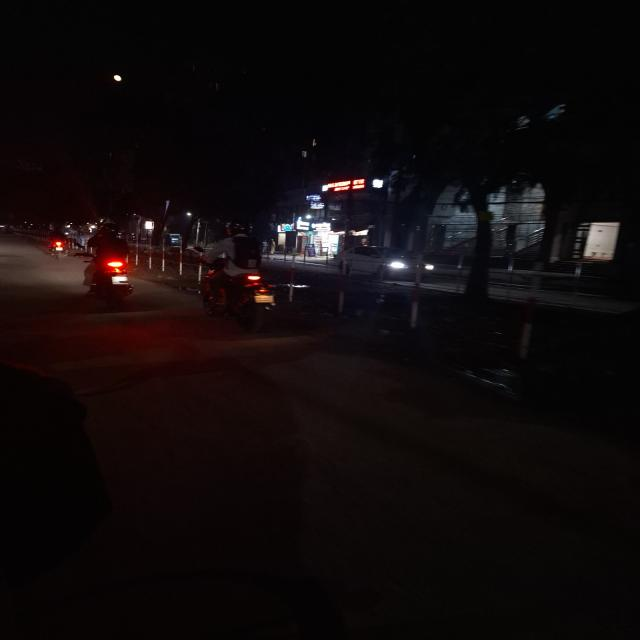car: (332, 243, 438, 276)
motorcycle: (192, 224, 288, 330), (80, 222, 143, 302), (41, 226, 72, 261)
